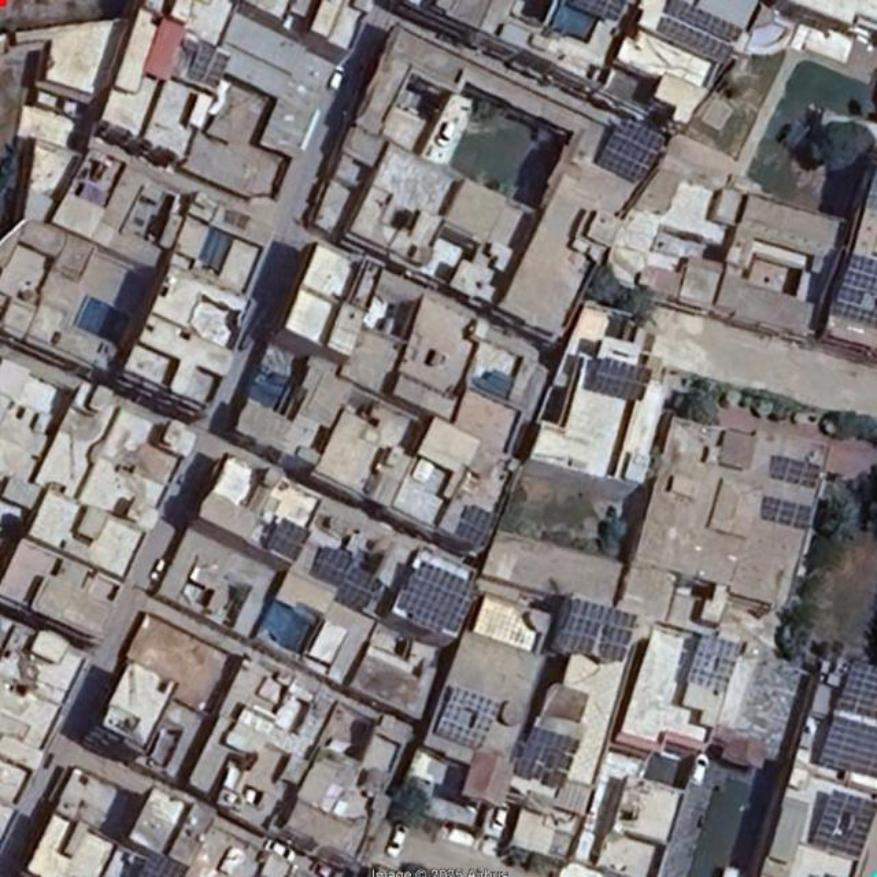Solarpanel: (393, 561, 477, 639), (655, 0, 744, 63), (552, 598, 636, 660), (597, 116, 666, 183), (813, 790, 875, 860), (511, 724, 580, 786), (435, 685, 500, 747), (816, 718, 876, 777), (834, 252, 876, 327), (687, 634, 739, 690), (591, 357, 650, 397), (839, 662, 876, 719), (454, 503, 499, 547), (268, 518, 312, 560), (767, 454, 821, 488), (188, 42, 231, 84), (338, 567, 381, 609), (759, 498, 811, 532), (311, 546, 353, 587), (567, 0, 624, 20), (137, 857, 184, 876)
